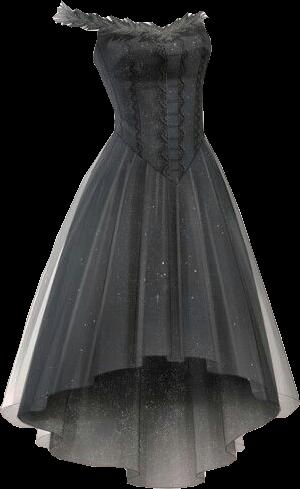Bodice: (93, 12, 211, 187)
Hemline: (1, 353, 299, 413)
Neckline: (100, 10, 200, 31)
Skirt: (0, 134, 299, 488)
Sleeve: (52, 0, 102, 31)
Sleeveline: (96, 12, 106, 33)
Waistline: (109, 129, 209, 188)
